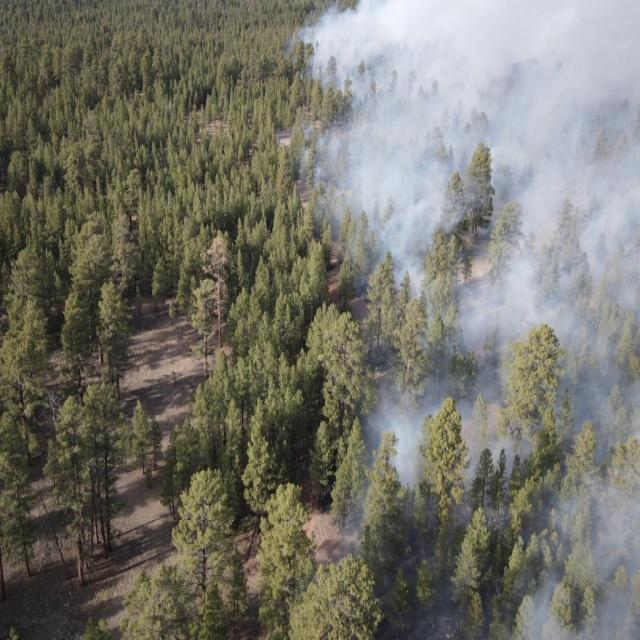smoke: (347, 266, 640, 640), (290, 0, 640, 266)
